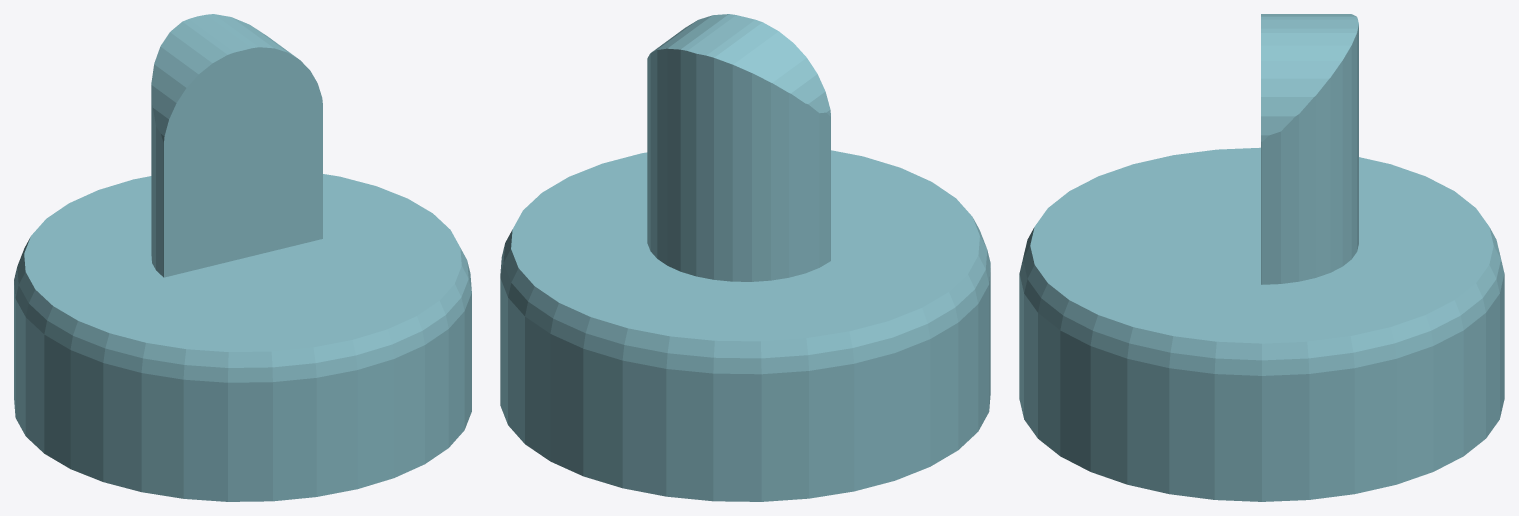
3 renders of one model, left to right at view 1: azimuth 30°, elevation 25°; view 2: azimuth 150°, elevation 25°; view 3: azimuth 270°, elevation 25°, orthographic. The views are drawn at different scales.
Visible parts, largest first — view 1: link_1_visual; view 2: link_1_visual; view 3: link_1_visual.
Boxes of the visible parts, left/top/right/bottom form: link_1_visual: left=14, top=14, right=471, bottom=501; link_1_visual: left=500, top=14, right=990, bottom=501; link_1_visual: left=1019, top=14, right=1504, bottom=501.
Bounding box in the file's own units: 2 × 2 × 1.71.
